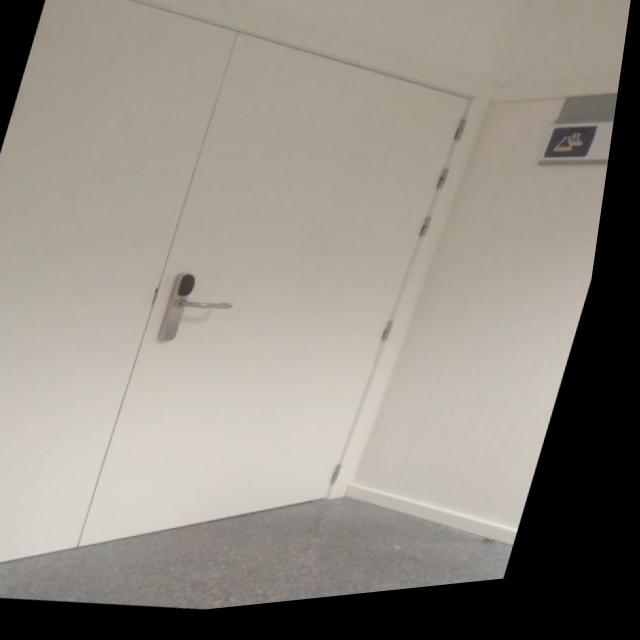door_handle: (173, 295, 249, 327)
